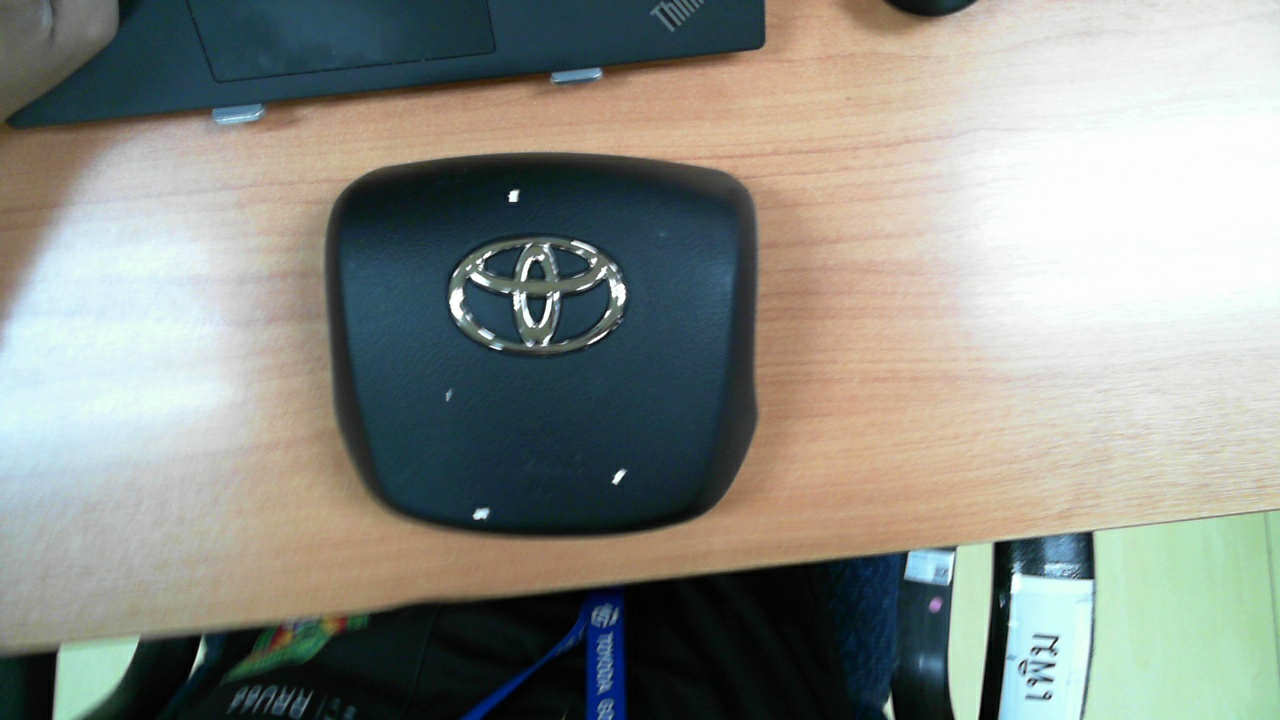Airbag: (324, 152, 761, 536)
Mark: (612, 468, 626, 485), (472, 507, 490, 520), (508, 189, 520, 202), (446, 387, 452, 402), (660, 233, 663, 237)
